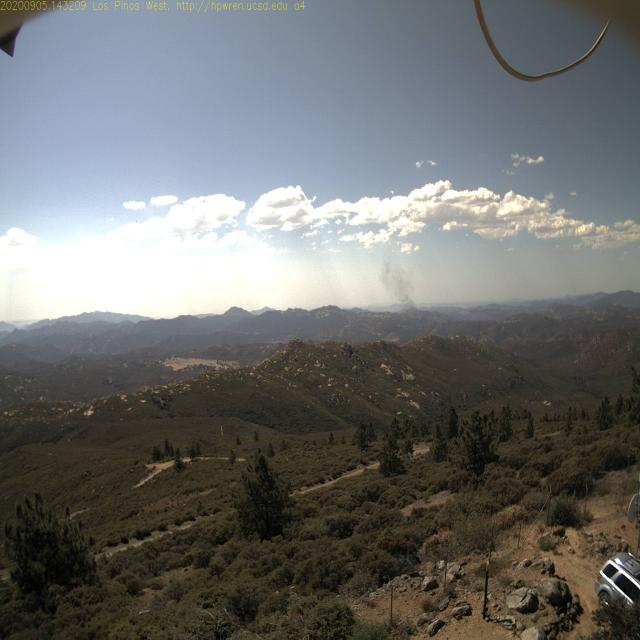smoke: (380, 255, 407, 299), (406, 296, 422, 324)
